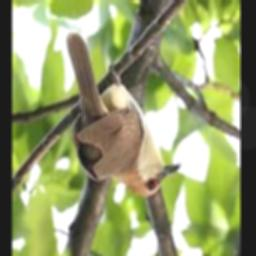Cuckoo: (66, 32, 180, 198)
